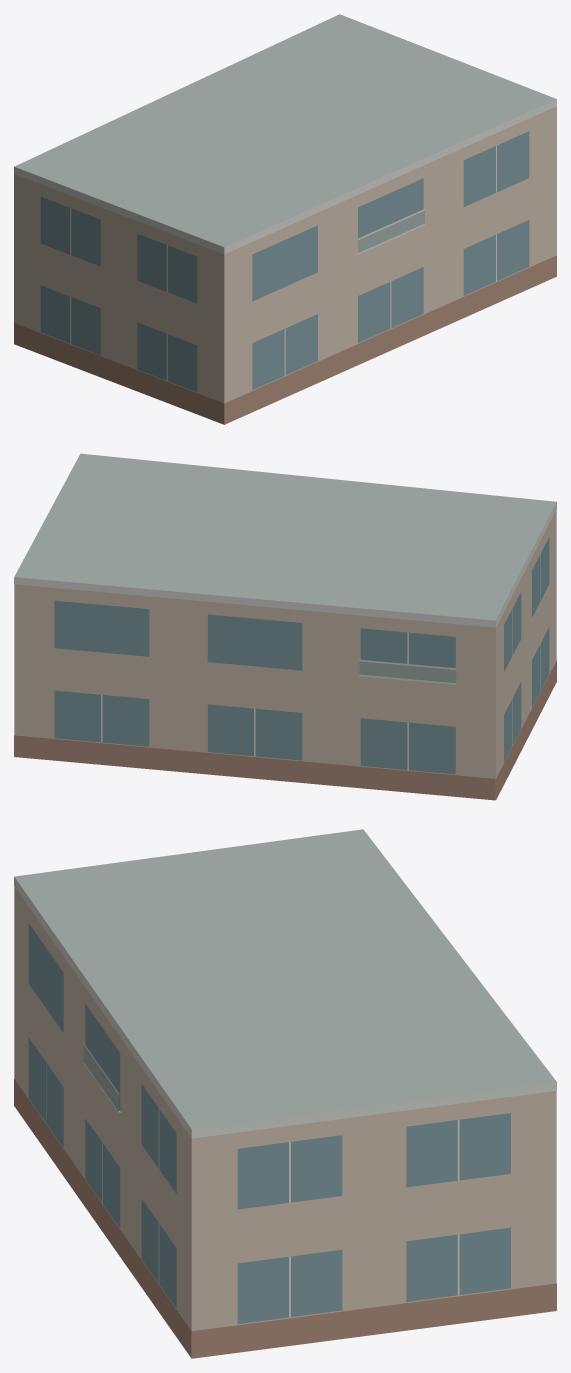
Rendered from survey-upis-32707944.glb.
The picture shows the model from 3 angles, top to bottom: view 1: azimuth 30°, elevation 25°; view 2: azimuth 150°, elevation 25°; view 3: azimuth 270°, elevation 25°; orthographic projection. The views are drawn at different scales.
Parts seen in each view (by area): view 1: survey-upis-32707944.tmp; view 2: survey-upis-32707944.tmp; view 3: survey-upis-32707944.tmp.
Part boxes in pixels (x1,y1,x2,y2): survey-upis-32707944.tmp: (14, 14, 556, 424); survey-upis-32707944.tmp: (14, 453, 556, 800); survey-upis-32707944.tmp: (14, 829, 556, 1358).
Bounding box in the file's own units: 17.15 × 6.1 × 13.1.
